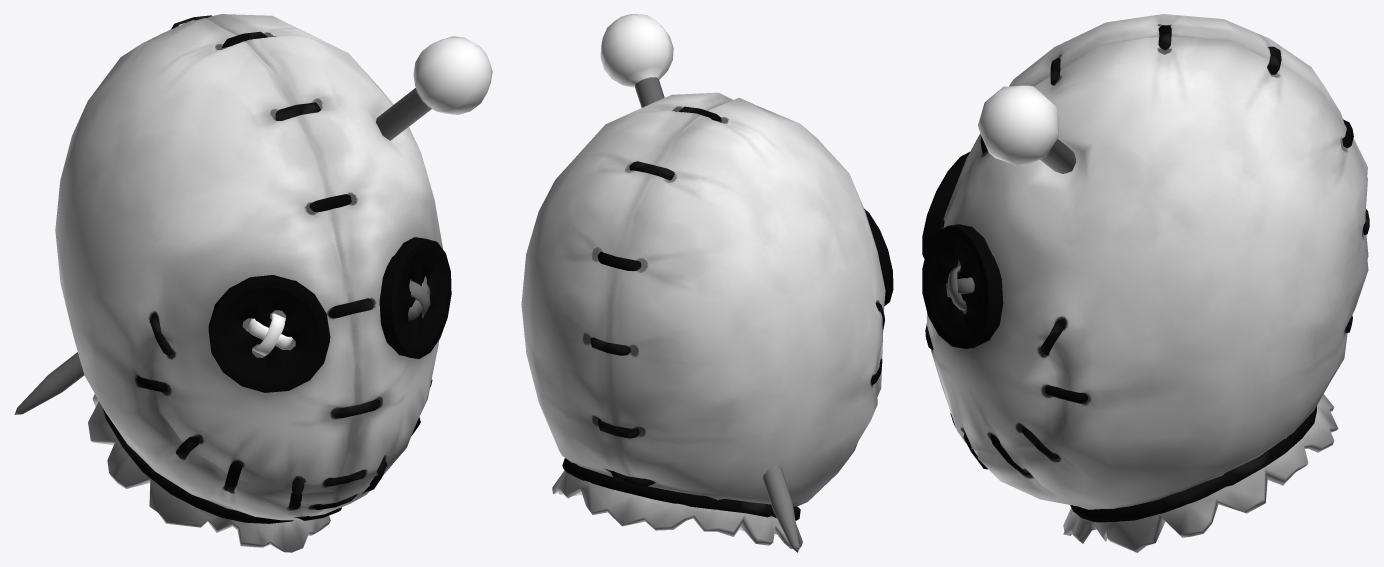
File: SurvivorMale_Head_Mask_Voodoo_LOD0.glb
The picture shows the model from 3 angles, left to right: view 1: azimuth 30°, elevation 25°; view 2: azimuth 150°, elevation 25°; view 3: azimuth 270°, elevation 25°; orthographic projection. The views are drawn at different scales.
Visible parts, largest first — view 1: Hoodie; view 2: Hoodie; view 3: Hoodie.
Part boxes in pixels (x1,y1,x2,y2): Hoodie: (14, 14, 492, 552); Hoodie: (521, 14, 893, 552); Hoodie: (922, 14, 1369, 552).
Size of the model in its own units: 0.2224 by 0.3113 by 0.2445.
Materials: 1 (1 with a texture image).
